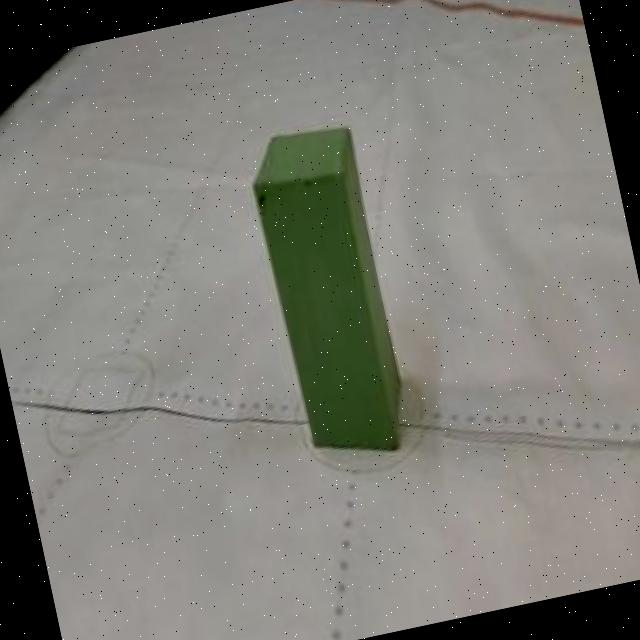greenbox: (236, 116, 418, 466)
